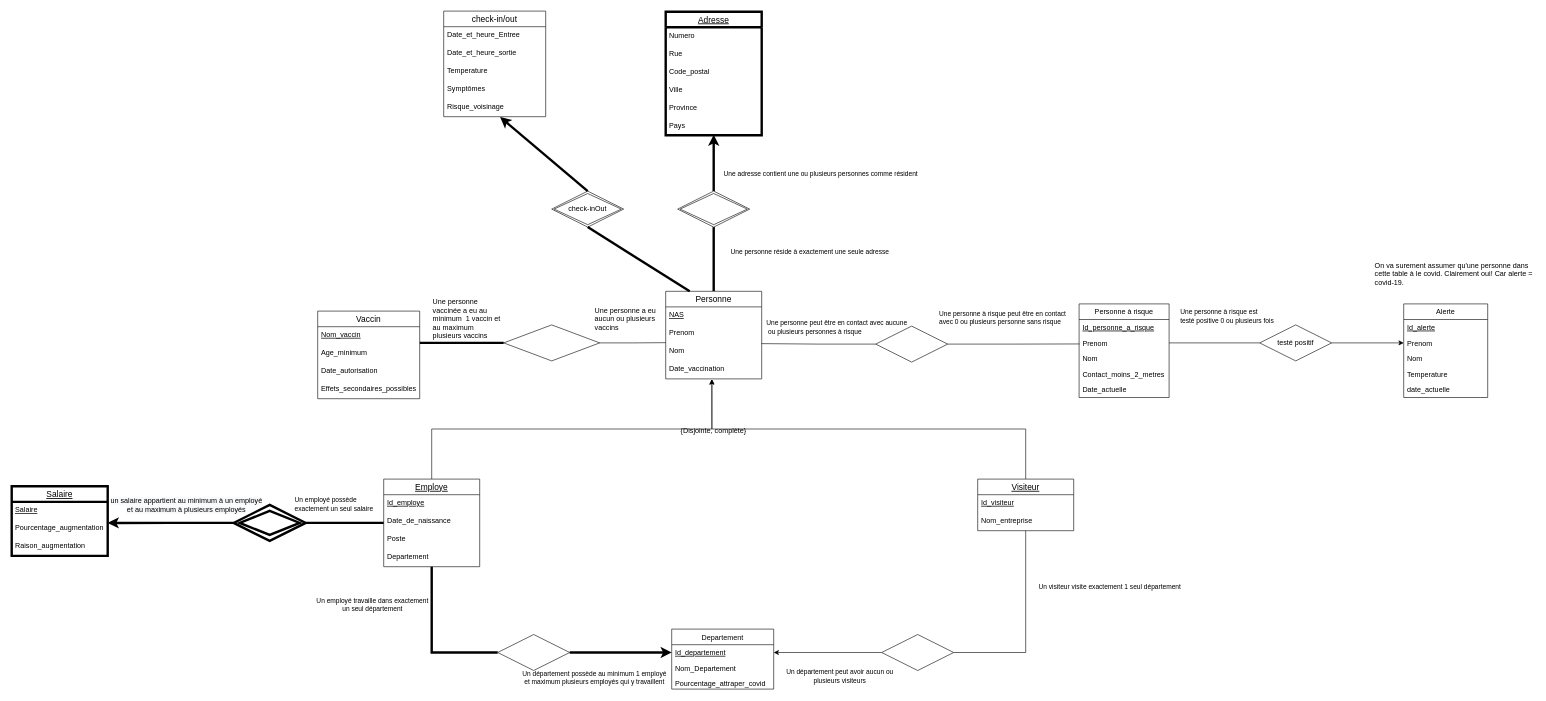
Some shapes in this 1546 by 701 pixel diagram are drawn without their labels. The centre of each missing label's shape, as x and y in pixels:
appartient: the point at 269,522
contact: the point at 911,344
Réside: the point at 713,208
Travaille: the point at 533,652
Vacciné: the point at 551,342
Visite: the point at 917,652
